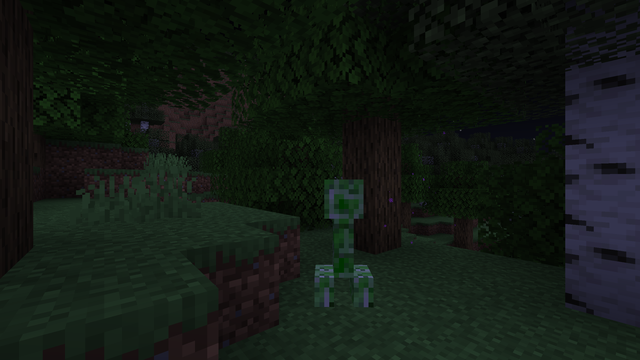creepers: (311, 173, 373, 313)
